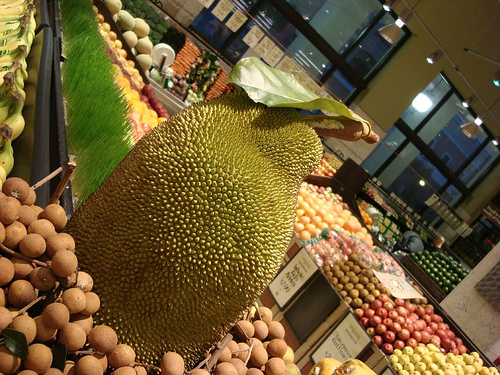jackfruit: (60, 80, 329, 367)
